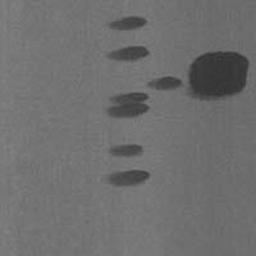Oil spot: (102, 51, 250, 120), (99, 168, 151, 188), (104, 45, 151, 63), (101, 15, 148, 32), (106, 142, 145, 160)
